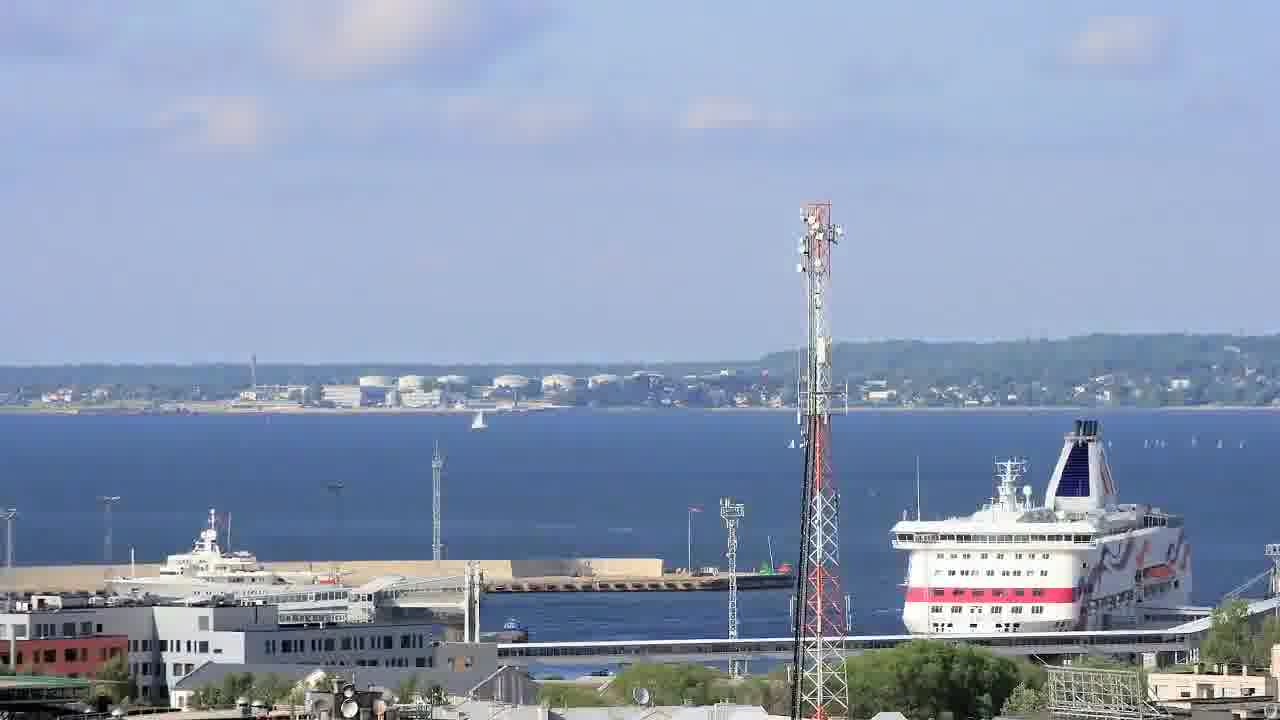type-2: (455, 391, 513, 446)
type-3: (868, 415, 1225, 638), (84, 511, 353, 609)
